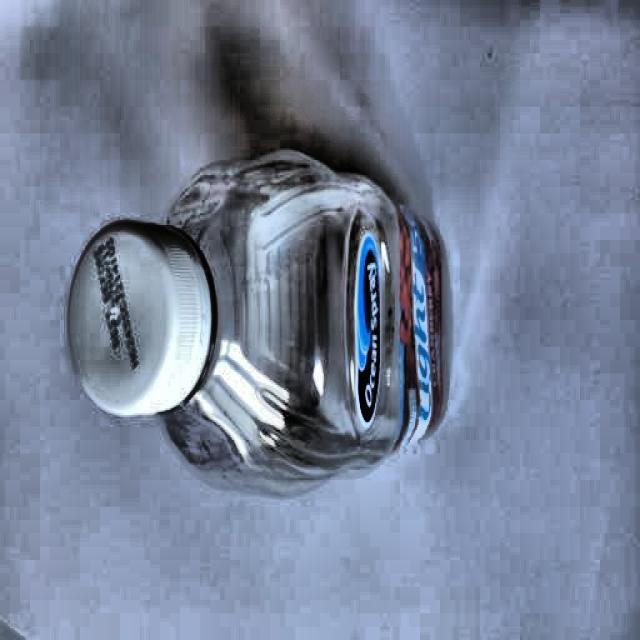plastic: (69, 151, 444, 493)
